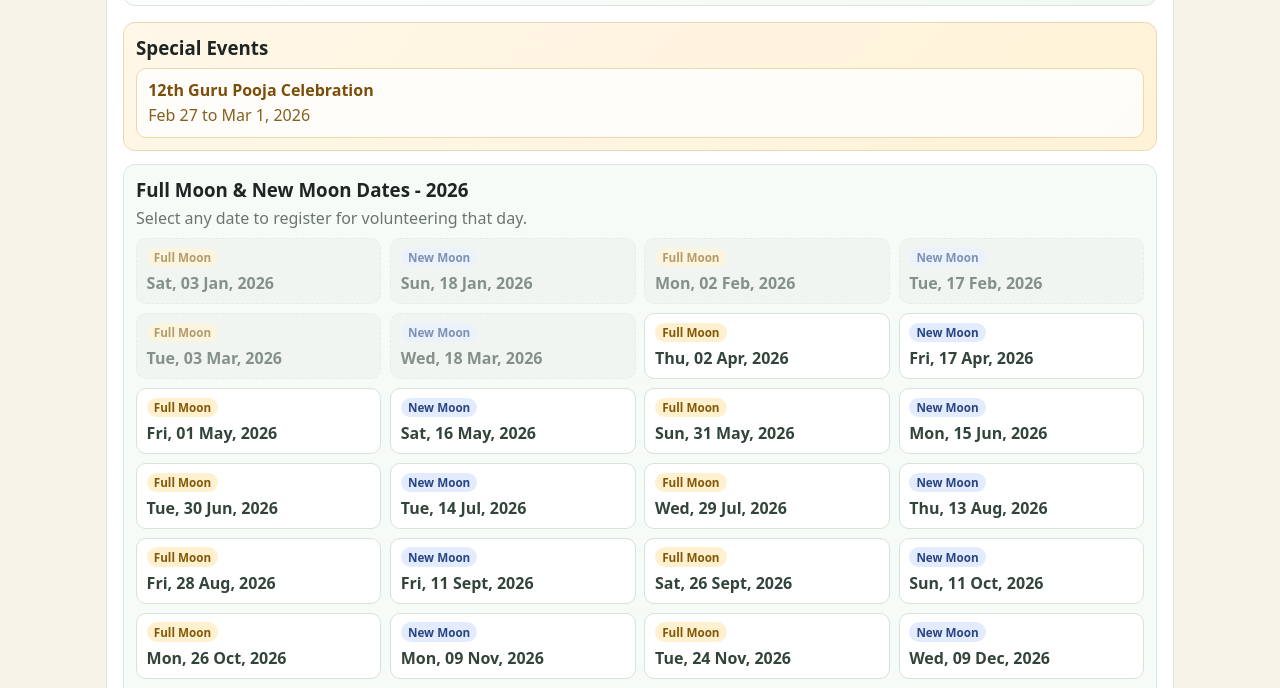
shows the registration form after selecting a moon date
(page scrolled)
Click the button "Full Moon Thu, 02 Apr, 2026" at [767, 346], box [644,313,890,379]
(page scrolled)
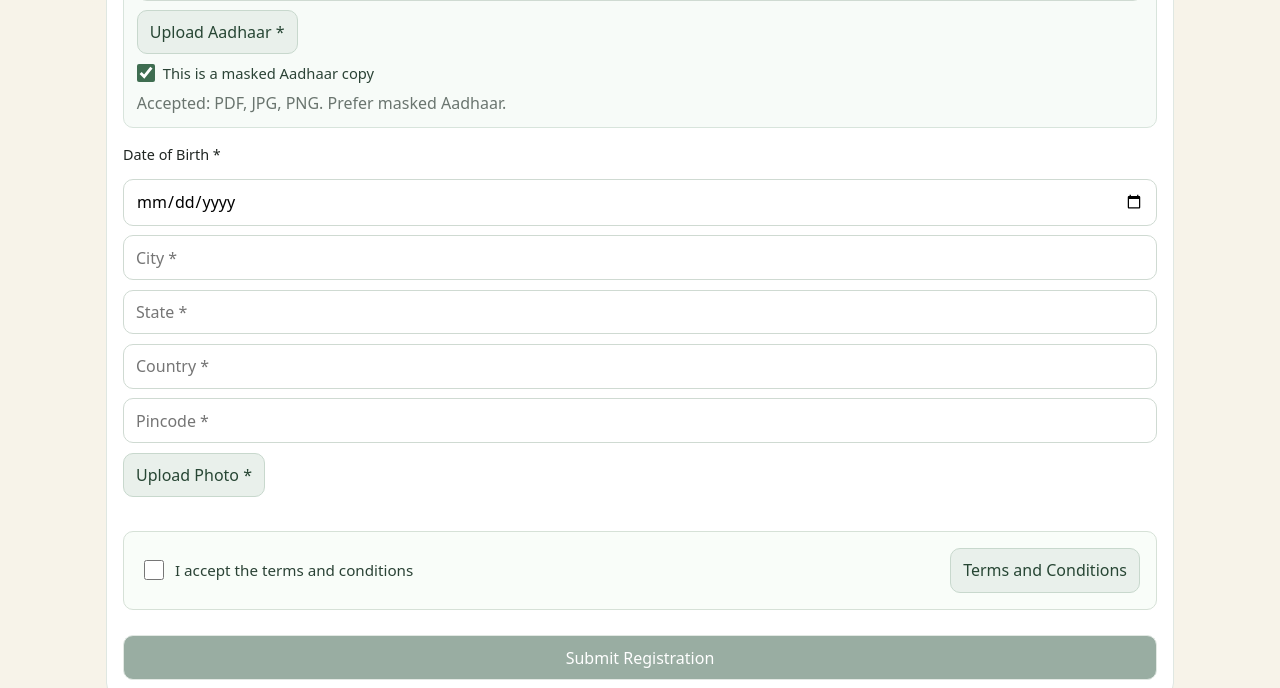
Check: the button "Submit Registration" is shown, box [123,635,1157,680]
